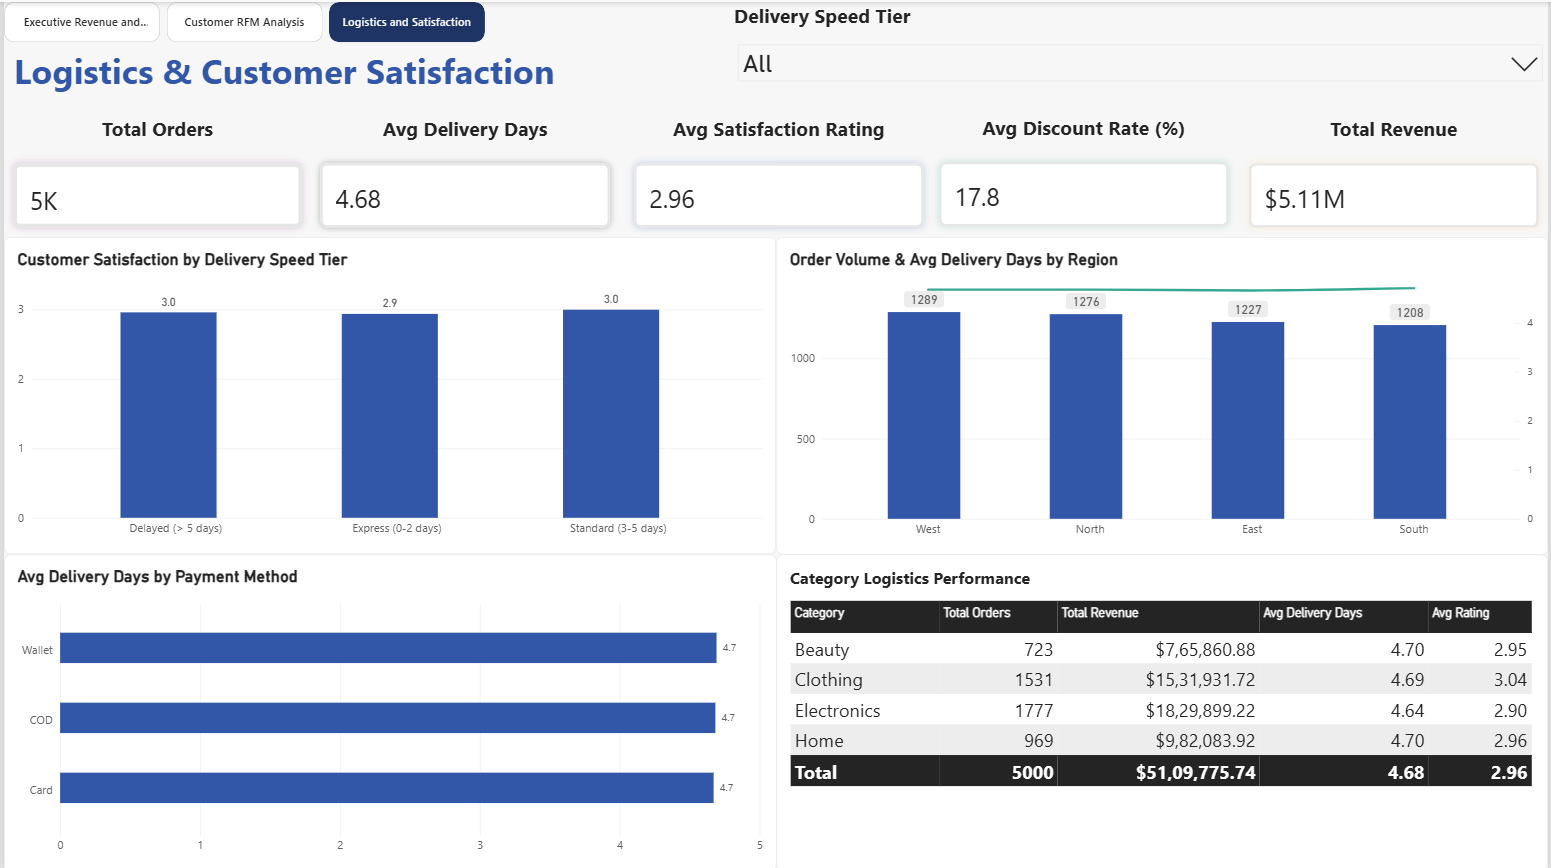

This screenshot's page, from the dashboard's own definition file:
{"tool":"powerbi","page":{"name":"Duplicate of Customer RFM Analysis","canvas":[1920,1080],"ordinal":2},"visuals":[{"type":"textbox","box":[12.6,0,895.3,120.4],"z":0},{"type":"cardVisual","title":"Avg Discount Rate (%)","fields":{"Data":["Avg(vw_logistics_and_satisfaction.avg_discount_pct)"]},"box":[1152.4,140.2,382,150.5],"z":1000},{"type":"cardVisual","title":"Avg Delivery Days","fields":{"Data":["Avg(vw_logistics_and_satisfaction.avg_delivery_days)"]},"box":[382.6,142.1,382,150],"z":2000},{"type":"cardVisual","title":"Avg Satisfaction Rating","fields":{"Data":["Avg(vw_logistics_and_satisfaction.avg_rating)"]},"box":[771.8,142.1,382,150],"z":3000},{"type":"cardVisual","title":"Total Orders","fields":{"Data":["_Measures.Total Orders"]},"box":[0,142,382,150],"z":4000},{"type":"cardVisual","title":"Total Revenue","fields":{"Data":["Sum(vw_logistics_and_satisfaction.total_revenue)"]},"box":[1537,142.1,382,150],"z":5000},{"type":"slicer","title":"Delivery Speed Tier","fields":{"Values":["vw_logistics_and_satisfaction.delivery_speed_tier"]},"box":[907.9,0,1010.3,120.4],"z":6000},{"type":"clusteredColumnChart","title":"Customer Satisfaction by Delivery Speed Tier","fields":{"Category":["vw_logistics_and_satisfaction.delivery_speed_tier"],"Y":["Avg(vw_logistics_and_satisfaction.avg_rating)"]},"box":[0,293,960,394],"z":8000},{"type":"lineClusteredColumnComboChart","title":"Order Volume & Avg Delivery Days by Region","fields":{"Category":["vw_logistics_and_satisfaction.region"],"Y":["Sum(vw_logistics_and_satisfaction.total_orders)"],"Y2":["Avg(vw_logistics_and_satisfaction.avg_delivery_days)"]},"box":[960.9,291.9,959.1,395.2],"z":9000},{"type":"clusteredBarChart","title":"Avg Delivery Days by Payment Method","fields":{"Category":["vw_logistics_and_satisfaction.payment_method"],"Y":["Avg(vw_logistics_and_satisfaction.avg_delivery_days)"]},"box":[0,687.1,960.9,393.4],"z":10000},{"type":"tableEx","title":"Category Logistics Performance","fields":{"Values":["vw_logistics_and_satisfaction.product_category","Sum(vw_logistics_and_satisfaction.total_orders)","Sum(vw_logistics_and_satisfaction.total_revenue)","Avg(vw_logistics_and_satisfaction.avg_delivery_days)","Avg(vw_logistics_and_satisfaction.avg_rating)"]},"box":[961,687,959,393],"z":11000},{"type":"pageNavigator","box":[0,0,600,50],"z":11001}]}

Visuals, with their boxes on the page's 1920x1080 design canvas (x1, y1, x2, y2). These are canvas units, not pixel positions in the 1551x868 screenshot, which may show the page scaled, cropped or inside an application window:
textbox: crop(13, 0, 908, 120)
"Avg Discount Rate (%)" cardVisual: crop(1152, 140, 1534, 291)
"Avg Delivery Days" cardVisual: crop(383, 142, 765, 292)
"Avg Satisfaction Rating" cardVisual: crop(772, 142, 1154, 292)
"Total Orders" cardVisual: crop(0, 142, 382, 292)
"Total Revenue" cardVisual: crop(1537, 142, 1919, 292)
"Delivery Speed Tier" slicer: crop(908, 0, 1918, 120)
"Customer Satisfaction by Delivery Speed Tier" clusteredColumnChart: crop(0, 293, 960, 687)
"Order Volume & Avg Delivery Days by Region" lineClusteredColumnComboChart: crop(961, 292, 1920, 687)
"Avg Delivery Days by Payment Method" clusteredBarChart: crop(0, 687, 961, 1080)
"Category Logistics Performance" tableEx: crop(961, 687, 1920, 1080)
pageNavigator: crop(0, 0, 600, 50)
